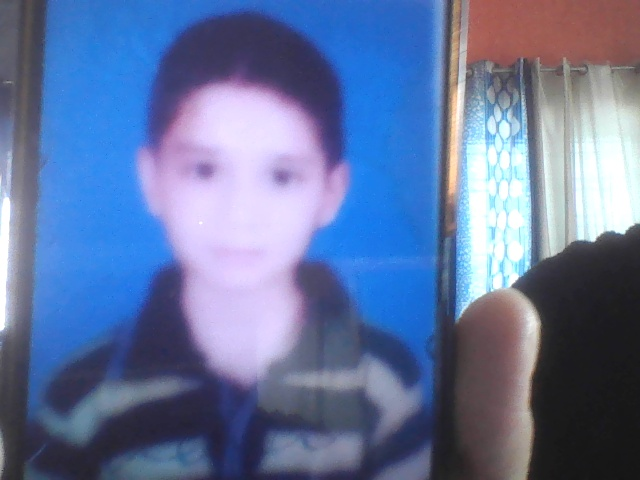fake: (141, 17, 352, 316)
